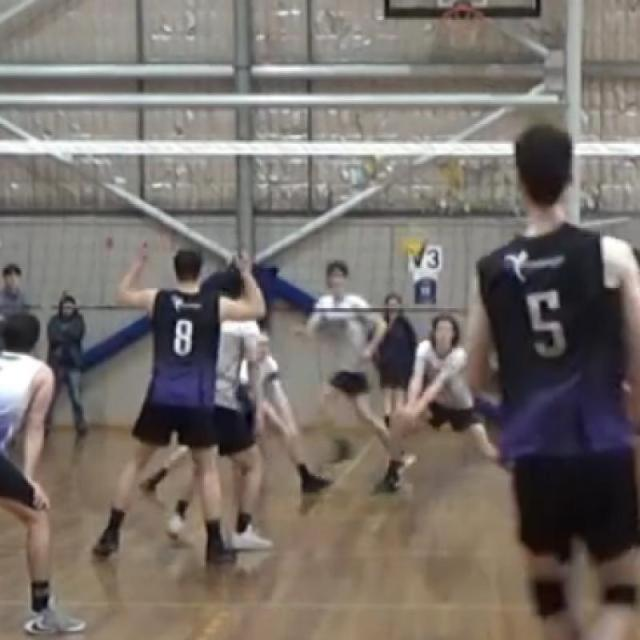volleyball: (389, 224, 431, 270)
